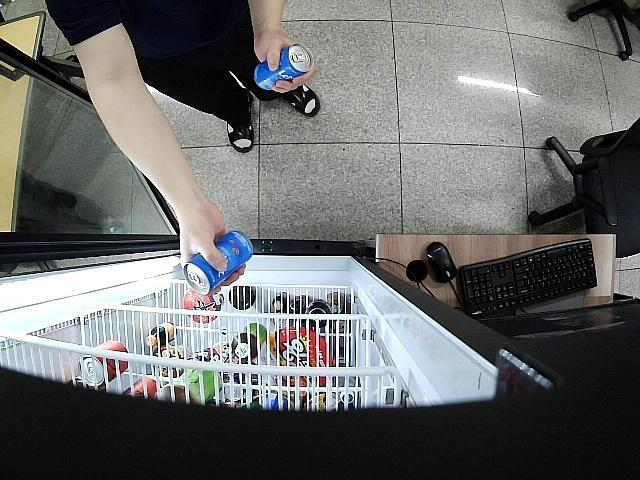15_letsbe: (183, 232, 254, 293), (254, 44, 313, 90)
